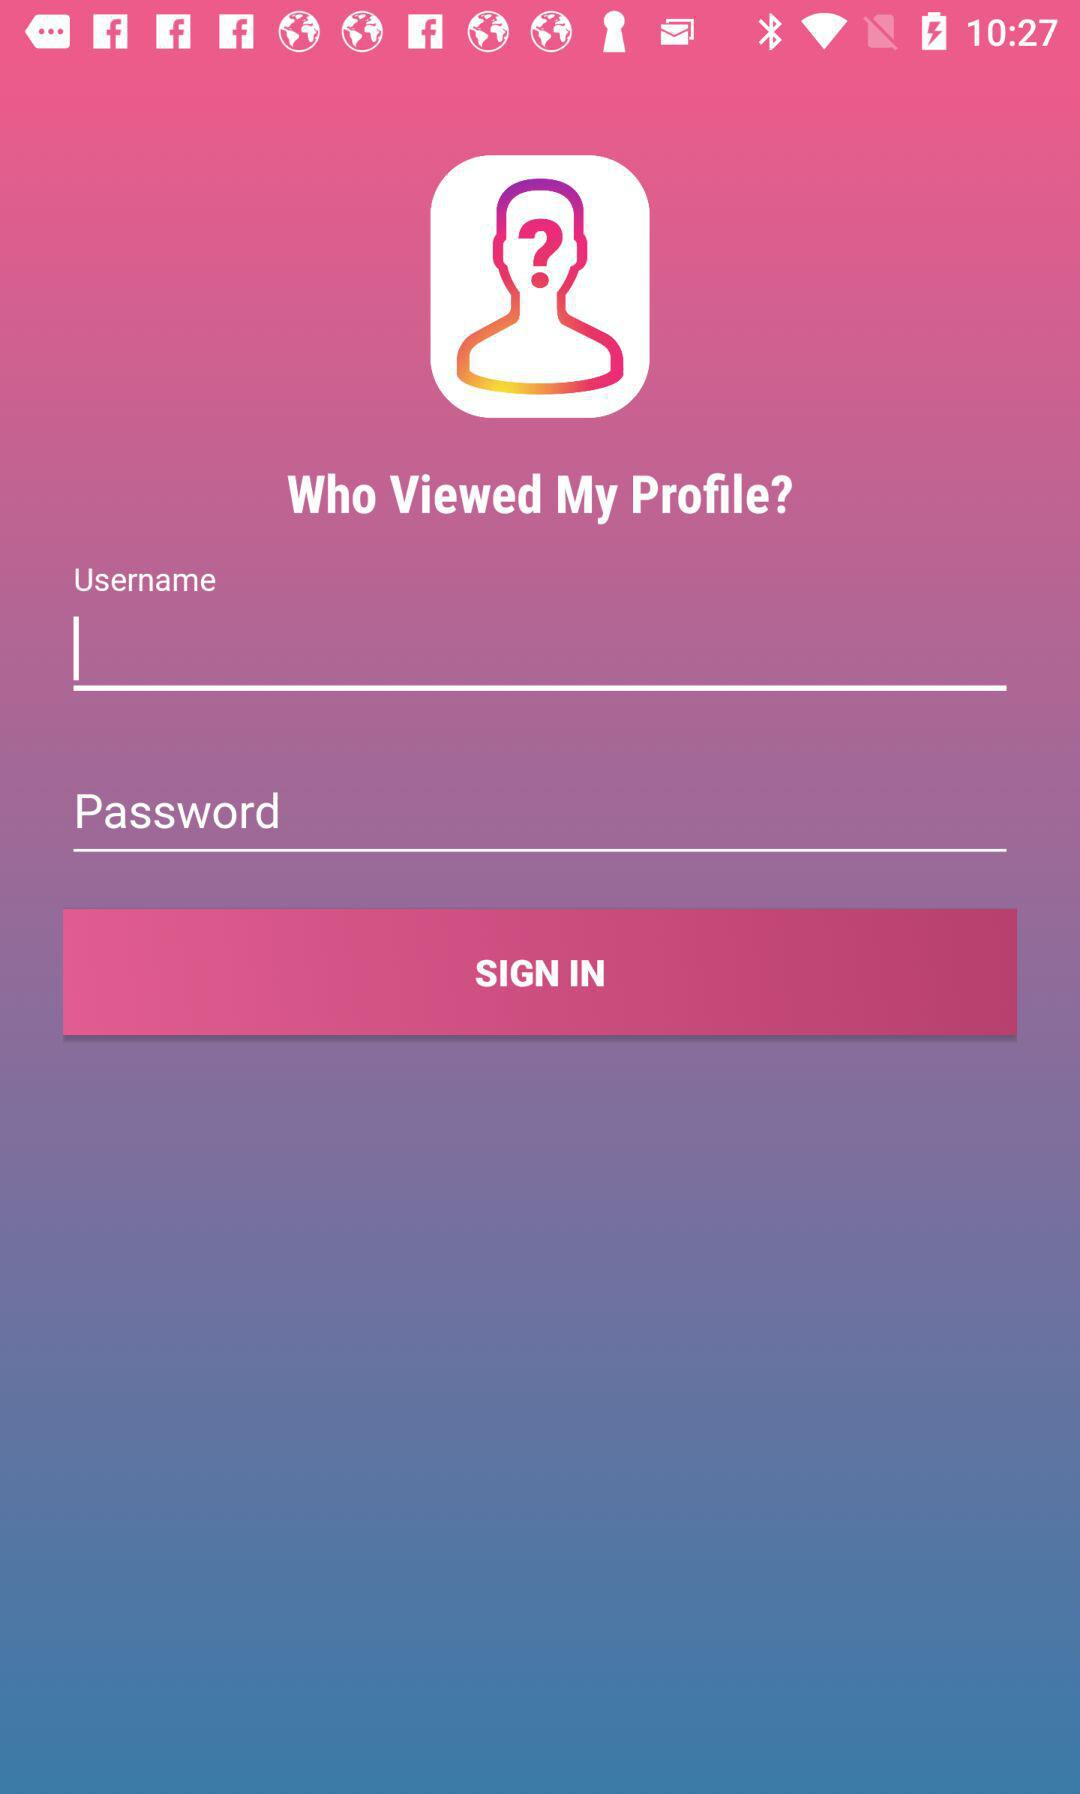EditText: (73, 566, 1008, 693), (73, 791, 1008, 853)
Image: (430, 155, 651, 419)
Text: (287, 472, 794, 528), (76, 791, 281, 830), (76, 568, 217, 595)
TextButton: (63, 909, 1019, 1035)
UpperTaskBar: (1, 1, 1080, 64)
